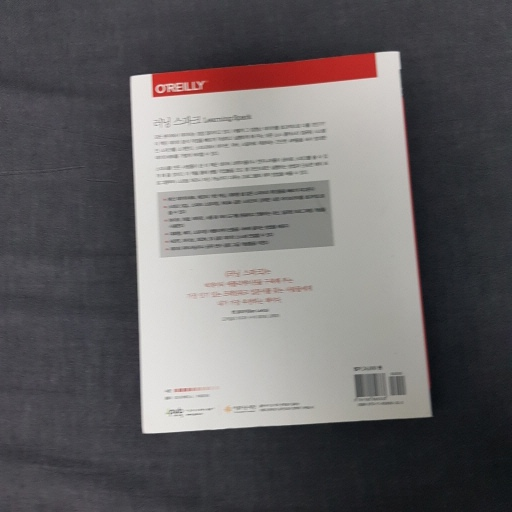Paper_0: (119, 50, 446, 438)
